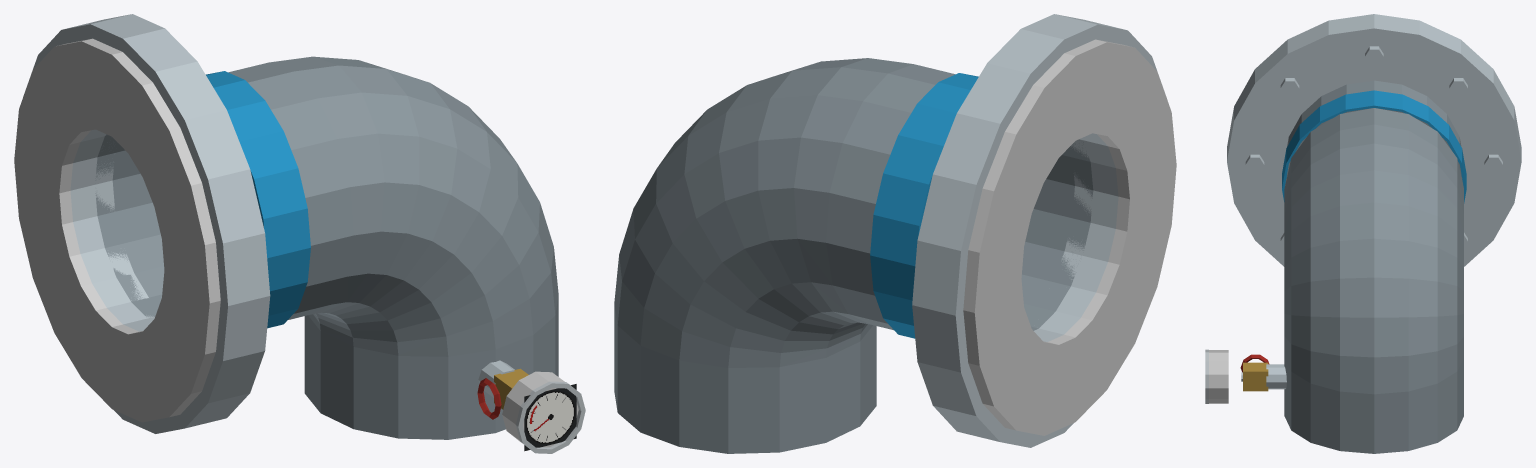
The model's file is cell_36.obj.
The picture shows the model from 3 angles, left to right: view 1: azimuth 30°, elevation 25°; view 2: azimuth 150°, elevation 25°; view 3: azimuth 270°, elevation 25°; orthographic projection. The views are drawn at different scales.
Size of the model in its own units: 0.97 by 0.91 by 0.88.
